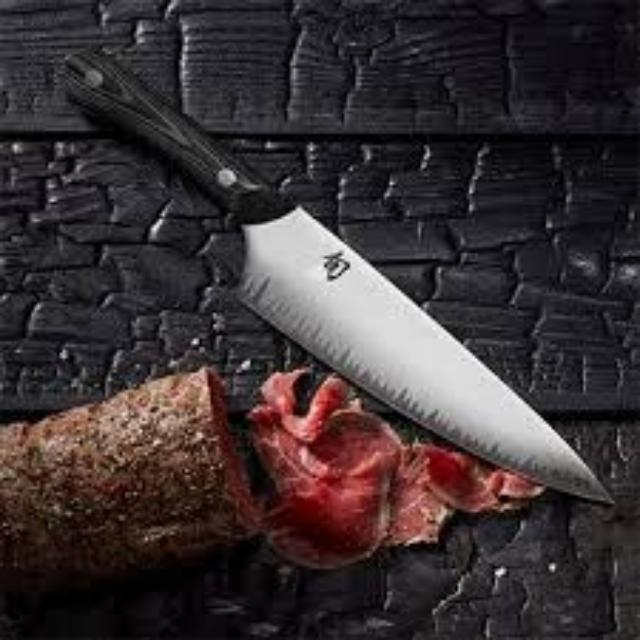knife: (60, 46, 614, 506)
